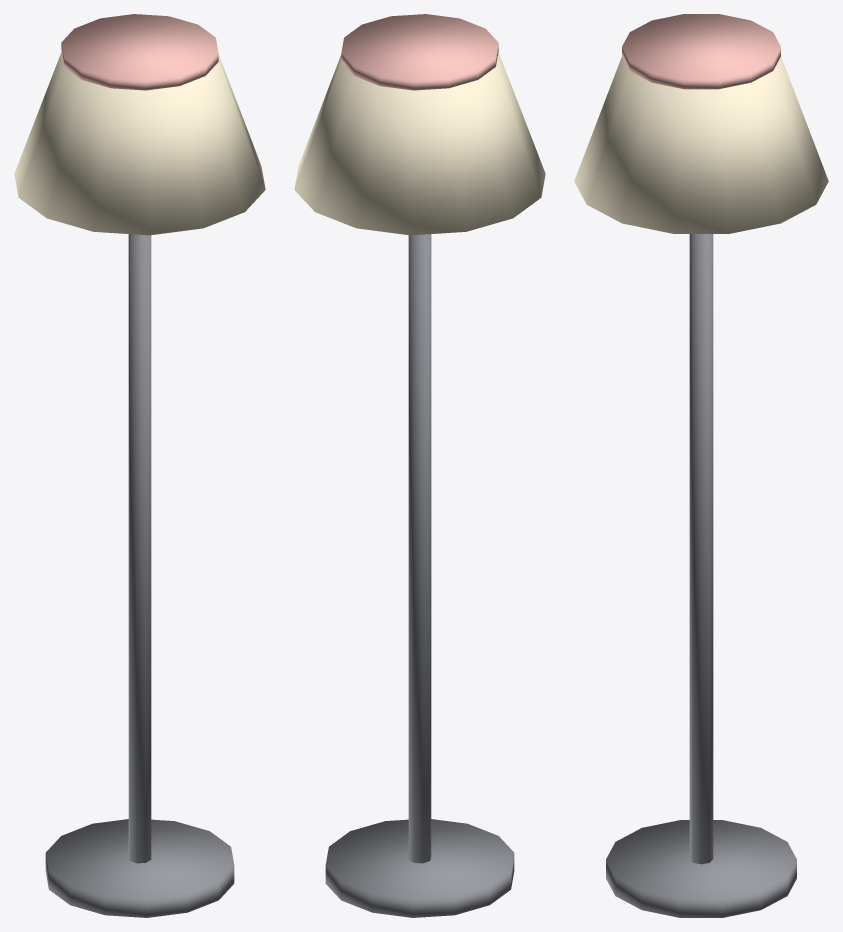
Rendered from luminaria.glb.
3 views of the same model, side by side, from view 1: azimuth 30°, elevation 25°; view 2: azimuth 150°, elevation 25°; view 3: azimuth 270°, elevation 25° (orthographic).
Parts seen in each view (by area): view 1: luminaria; view 2: luminaria; view 3: luminaria.
Boxes of the visible parts, box(x1,y1,x2,y2) form: luminaria: box(14, 14, 265, 917); luminaria: box(294, 14, 545, 917); luminaria: box(574, 14, 828, 917).
Size of the model in its own units: 0.468 by 1.73 by 0.48.
